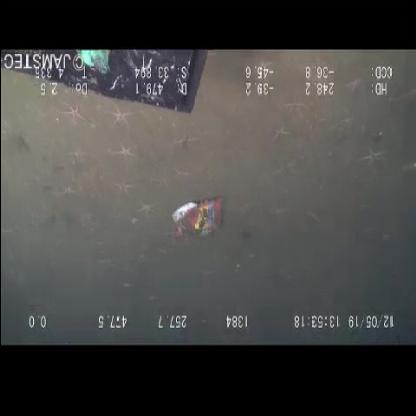Rov: (1, 50, 217, 116)
Rác: (169, 194, 228, 246)
